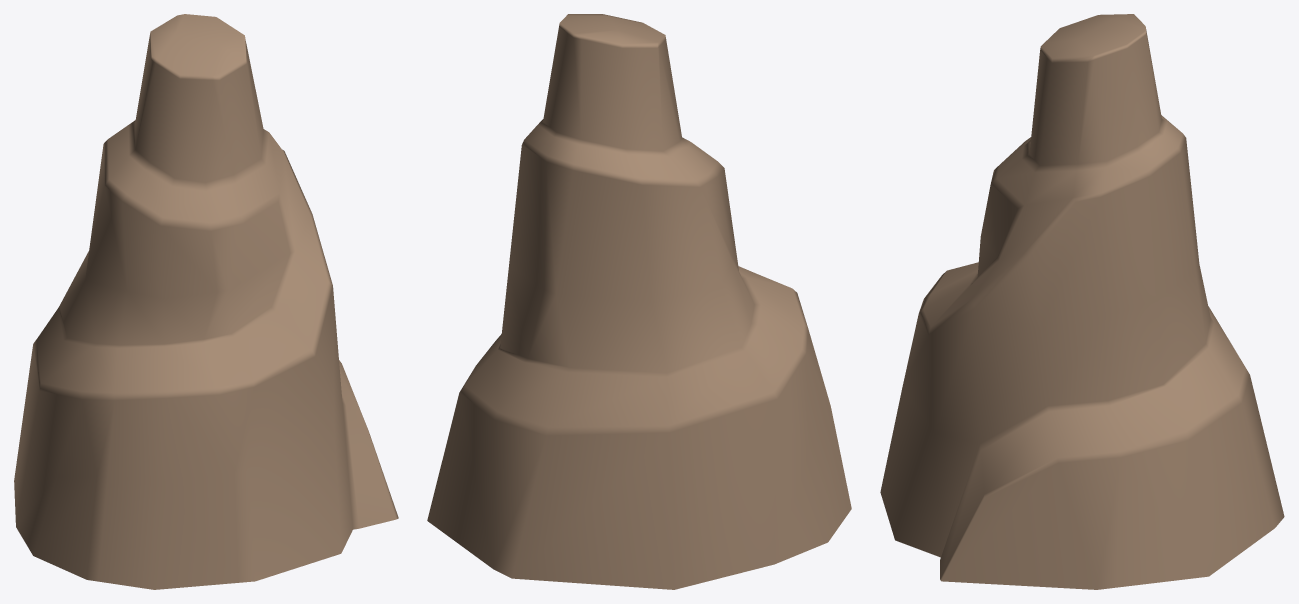
File: model_rock_01.fbx
The picture shows the model from 3 angles, left to right: view 1: azimuth 30°, elevation 25°; view 2: azimuth 150°, elevation 25°; view 3: azimuth 270°, elevation 25°; orthographic projection. The views are drawn at different scales.
Visible parts, largest first — view 1: rock01_geo; view 2: rock01_geo; view 3: rock01_geo.
Part boxes in pixels (bbox=[...]): rock01_geo: bbox=[14, 14, 398, 589]; rock01_geo: bbox=[427, 14, 851, 589]; rock01_geo: bbox=[880, 14, 1284, 589].
Size of the model in its own units: 45.09 by 60.56 by 45.23.
